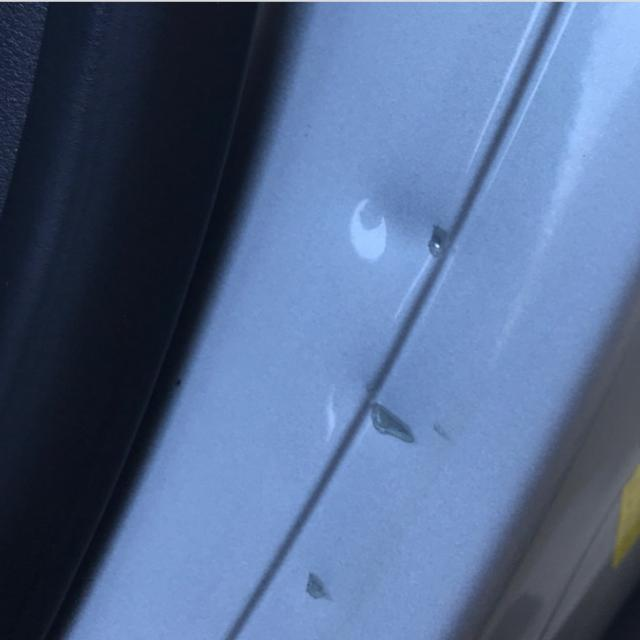dents: (328, 387, 450, 447), (312, 195, 420, 258), (277, 544, 345, 621), (424, 217, 480, 277)
